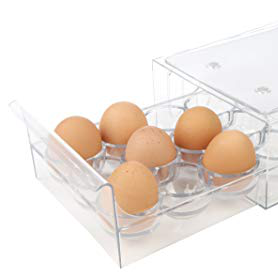egg: (31, 100, 259, 223)
